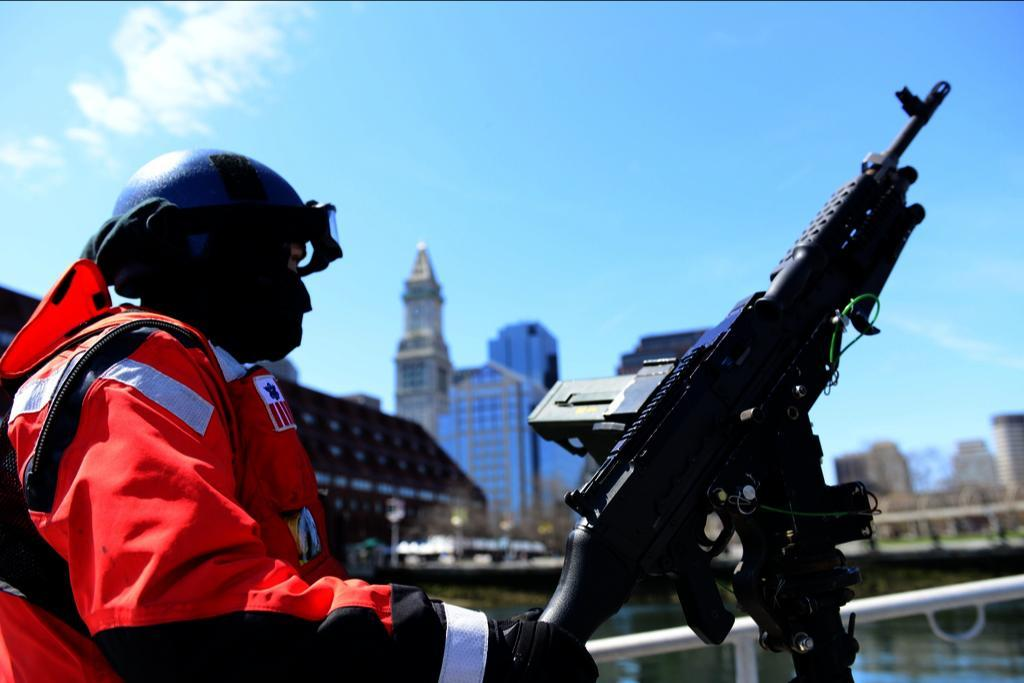gun: (562, 73, 952, 683)
